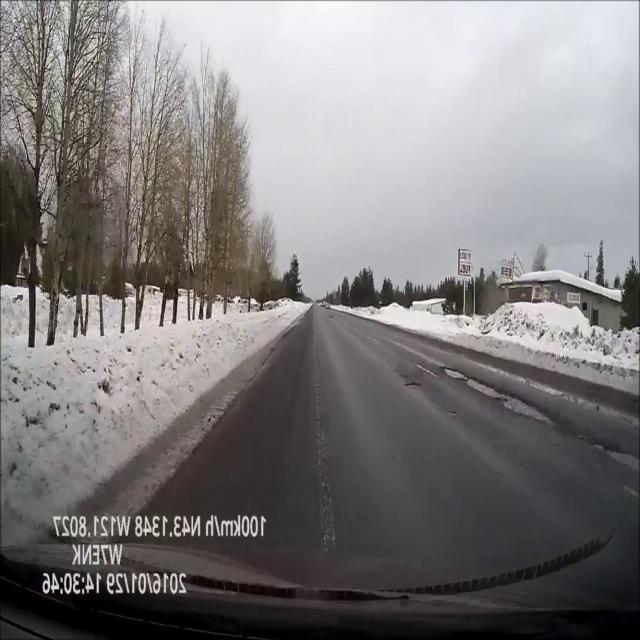pothole: (585, 435, 640, 474), (500, 394, 555, 431), (467, 377, 498, 402), (445, 366, 466, 384), (404, 379, 422, 392)
